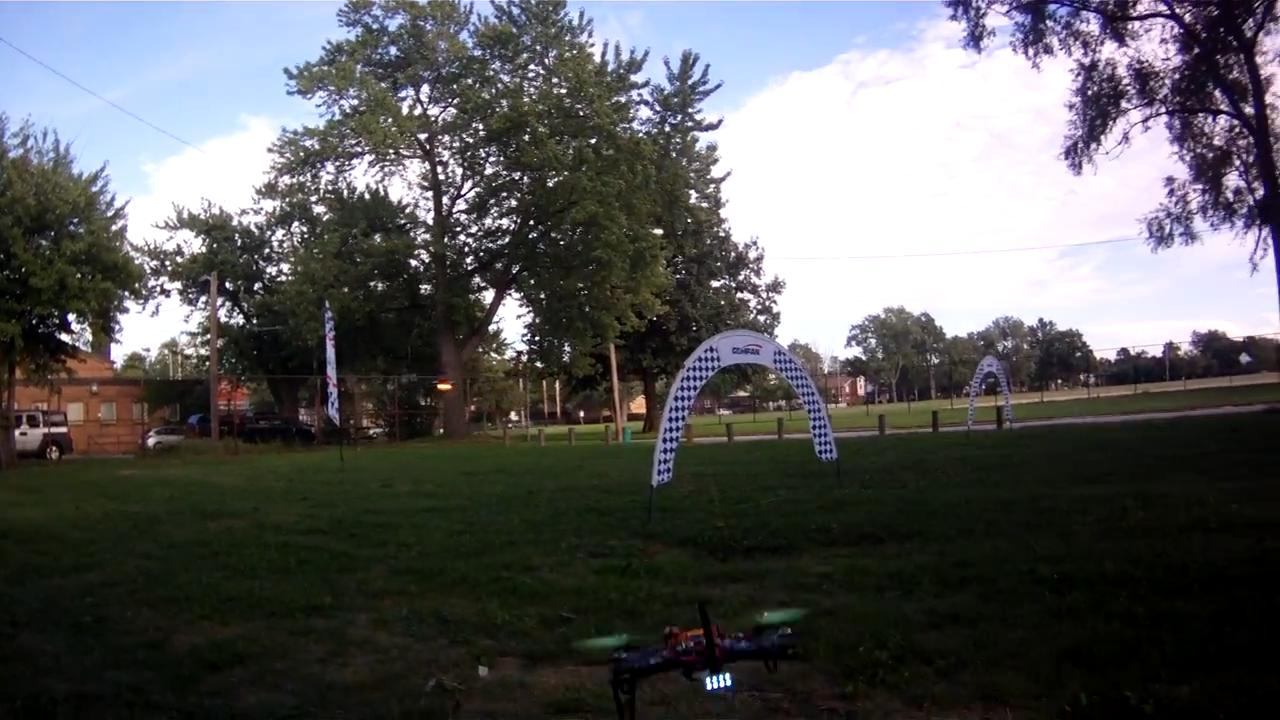gate: (649, 329, 838, 492)
